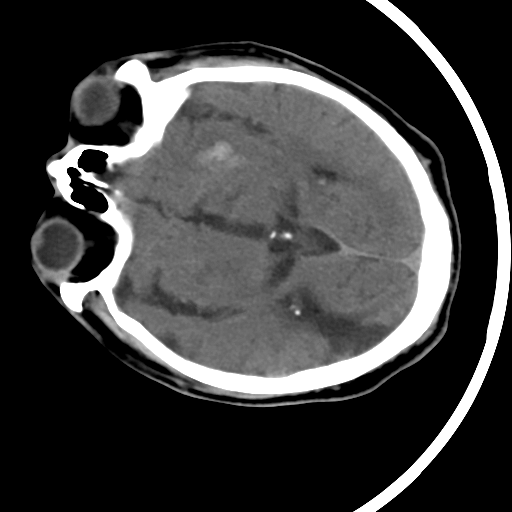a: (179, 123, 255, 183)
